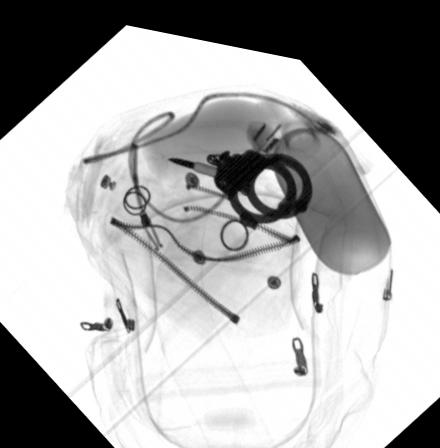Bullet: (165, 150, 230, 170)
HandCuffs: (199, 135, 314, 213)
